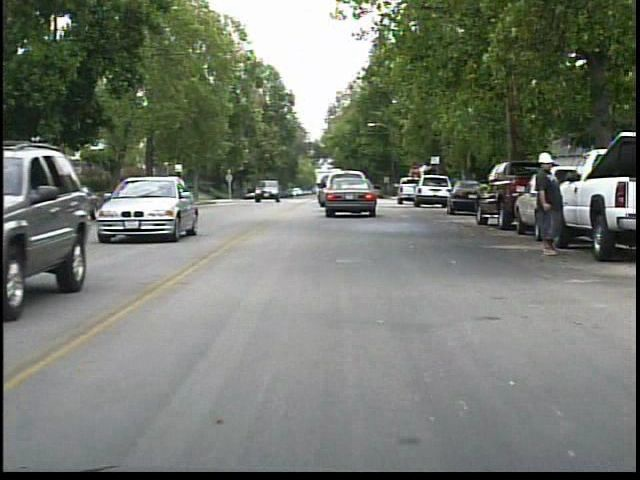person: (526, 144, 567, 260)
